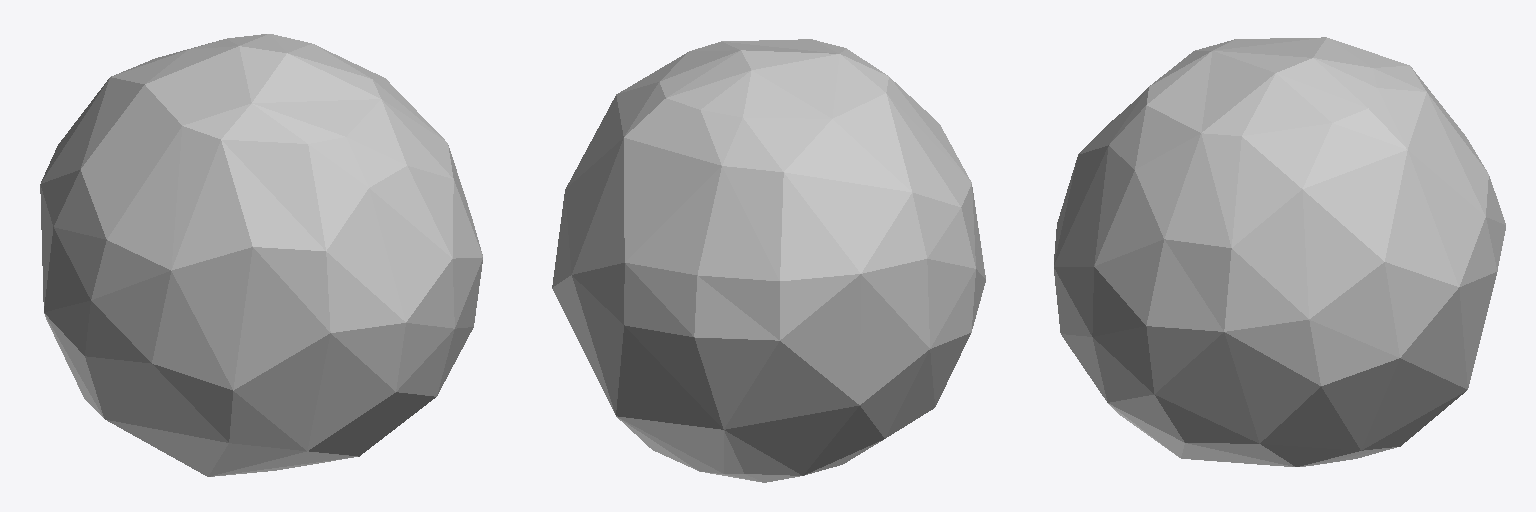
The model's file is KDK_Map03_Blood_Sphere_Low.obj.
3 views of the same model, side by side, from view 1: azimuth 30°, elevation 25°; view 2: azimuth 150°, elevation 25°; view 3: azimuth 270°, elevation 25° (orthographic).
Visible parts, largest first — view 1: Derelict_FinalBoss_Liquid_Sphere_Low; view 2: Derelict_FinalBoss_Liquid_Sphere_Low; view 3: Derelict_FinalBoss_Liquid_Sphere_Low.
Part boxes in pixels (left/top/right/bottom): Derelict_FinalBoss_Liquid_Sphere_Low: left=40, top=34, right=482, bottom=476; Derelict_FinalBoss_Liquid_Sphere_Low: left=552, top=39, right=985, bottom=482; Derelict_FinalBoss_Liquid_Sphere_Low: left=1054, top=37, right=1505, bottom=466.
Bounding box in the file's own units: 220 × 222 × 231.